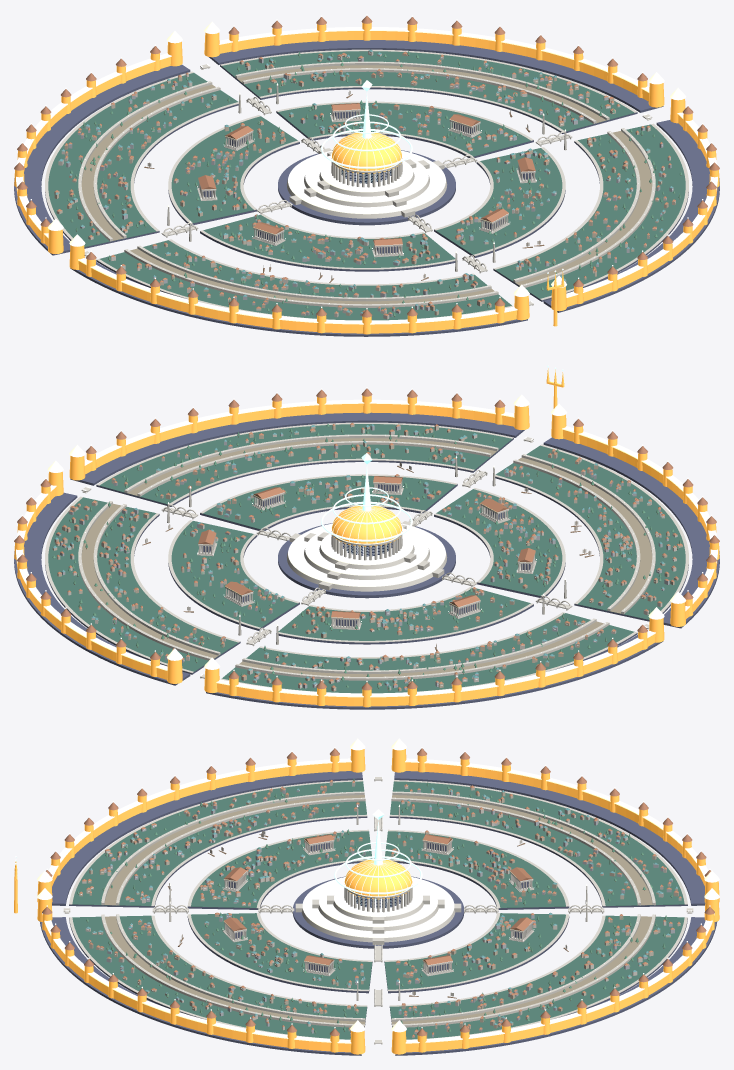
The model's file is atlantis.glb.
3 views of the same model, one above another, from view 1: azimuth 30°, elevation 25°; view 2: azimuth 150°, elevation 25°; view 3: azimuth 270°, elevation 25° (orthographic). The views are drawn at different scales.
Visible parts, largest first — view 1: grass, marble, stone, ori, trim, roof, sand, plaster3, leaf, plaster2, plaster, roof2 (+2 smaller); view 2: grass, marble, stone, ori, trim, roof, sand, plaster2, leaf, plaster3, plaster, roof2 (+2 smaller); view 3: grass, marble, stone, ori, trim, roof, sand, plaster3, plaster2, leaf, plaster, roof2 (+2 smaller).
Boxes of the visible parts, bbox=[...] form: grass: bbox=[48, 51, 685, 320]; marble: bbox=[45, 49, 688, 320]; stone: bbox=[14, 40, 719, 336]; ori: bbox=[14, 23, 719, 334]; trim: bbox=[16, 21, 717, 324]; roof: bbox=[14, 16, 719, 317]; sand: bbox=[81, 65, 652, 304]; plaster3: bbox=[66, 57, 673, 316]; leaf: bbox=[67, 50, 682, 315]; plaster2: bbox=[54, 53, 675, 315]; plaster: bbox=[54, 54, 663, 312]; roof2: bbox=[55, 49, 673, 313]; grass: bbox=[48, 424, 685, 693]; marble: bbox=[45, 422, 688, 693]; stone: bbox=[14, 412, 719, 709]; ori: bbox=[14, 368, 719, 707]; trim: bbox=[16, 394, 717, 697]; roof: bbox=[14, 388, 719, 690]; sand: bbox=[81, 438, 652, 676]; plaster2: bbox=[54, 425, 682, 691]; leaf: bbox=[52, 423, 681, 689]; plaster3: bbox=[56, 425, 670, 690]; plaster: bbox=[52, 424, 679, 691]; roof2: bbox=[53, 424, 664, 687]; grass: bbox=[72, 781, 684, 1039]; marble: bbox=[63, 777, 693, 1044]; stone: bbox=[39, 771, 717, 1055]; ori: bbox=[14, 749, 719, 1054]; trim: bbox=[37, 738, 719, 1043]; roof: bbox=[42, 748, 714, 1036]; sand: bbox=[104, 795, 652, 1026]; plaster3: bbox=[104, 789, 674, 1037]; plaster2: bbox=[79, 787, 678, 1037]; leaf: bbox=[77, 778, 672, 1032]; plaster: bbox=[86, 786, 680, 1037]; roof2: bbox=[86, 787, 677, 1024].
Bounding box in the file's own units: 4144 × 694 × 4284.
